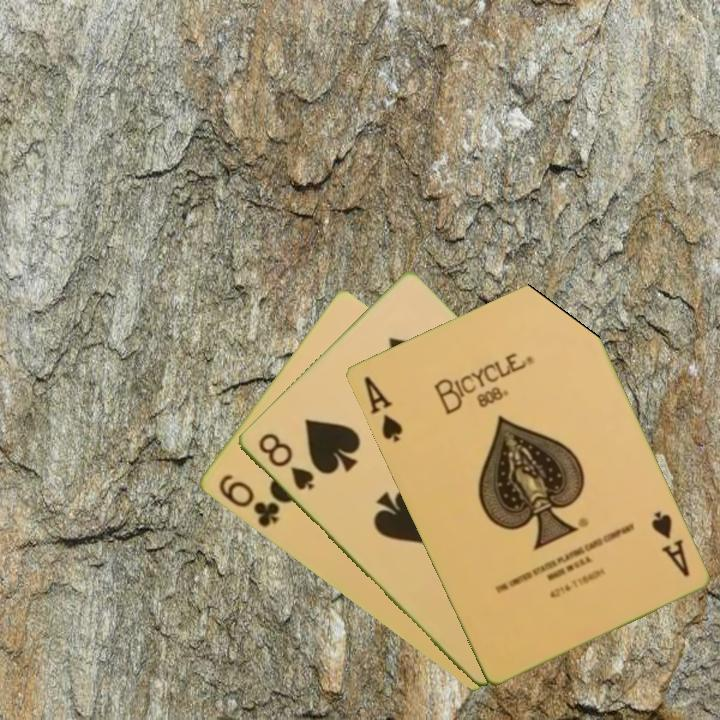6c: (214, 470, 282, 531)
8s: (254, 429, 317, 493)
As: (359, 372, 405, 446), (646, 507, 692, 580)
